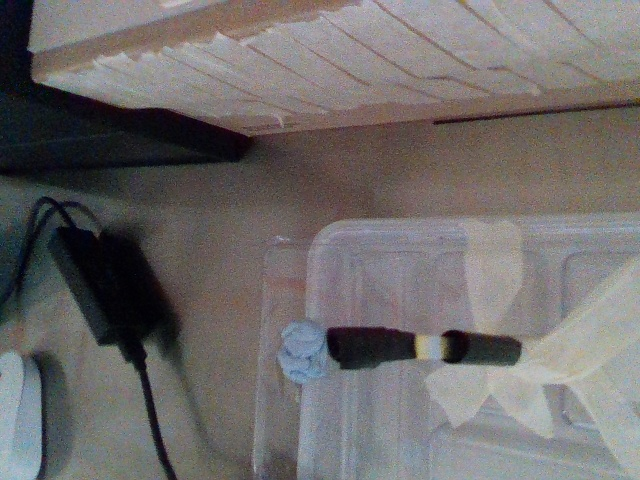test_strip: (326, 323, 448, 370)
